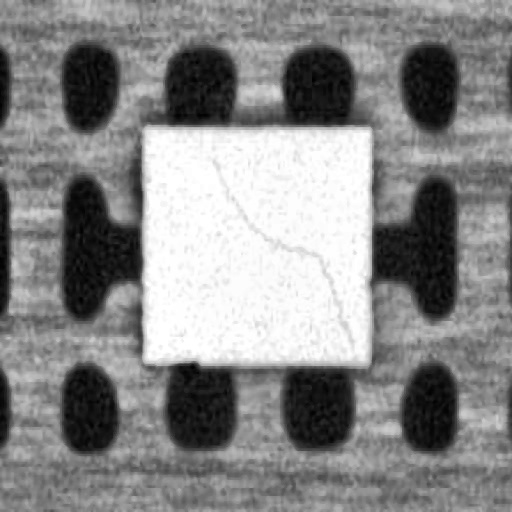DIE_CRACK: (209, 159, 354, 348)
